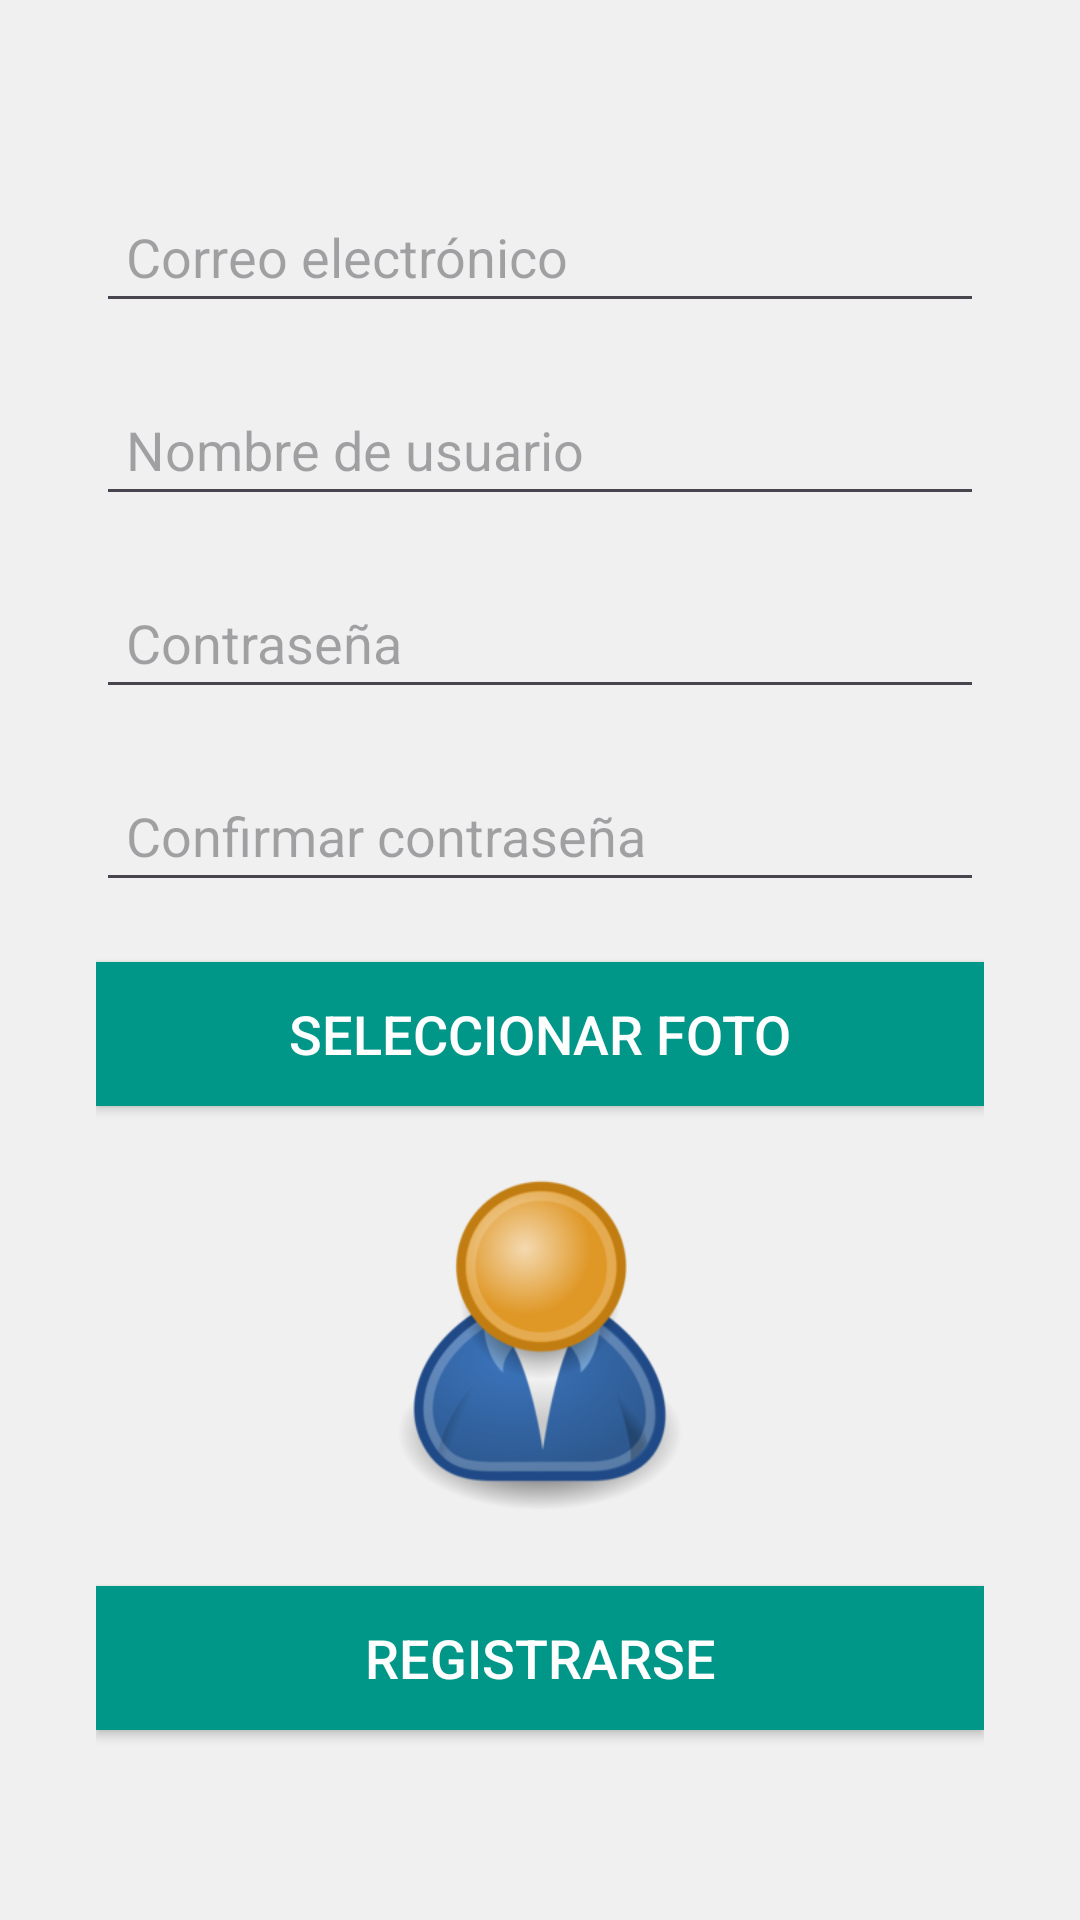

Icon bounding boxes for this 1080*1920 phone screenshot, format (x1, y1, x2, y2):
profile: (412, 1181, 668, 1503)
